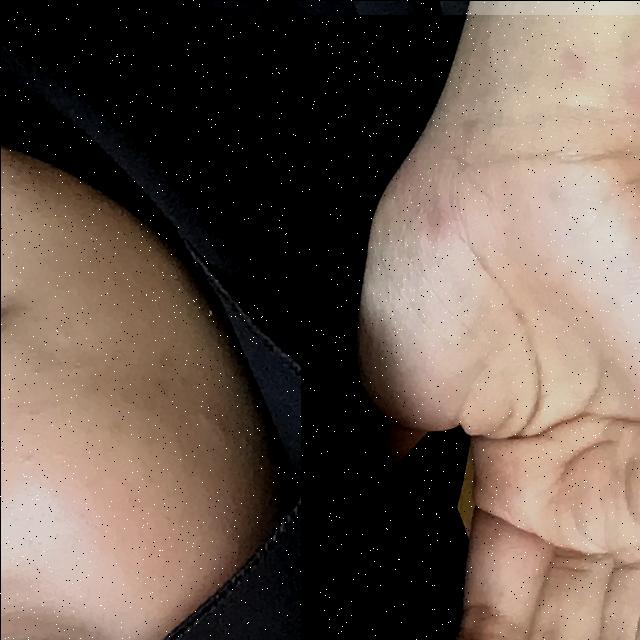mendengar: (300, 14, 640, 640)
